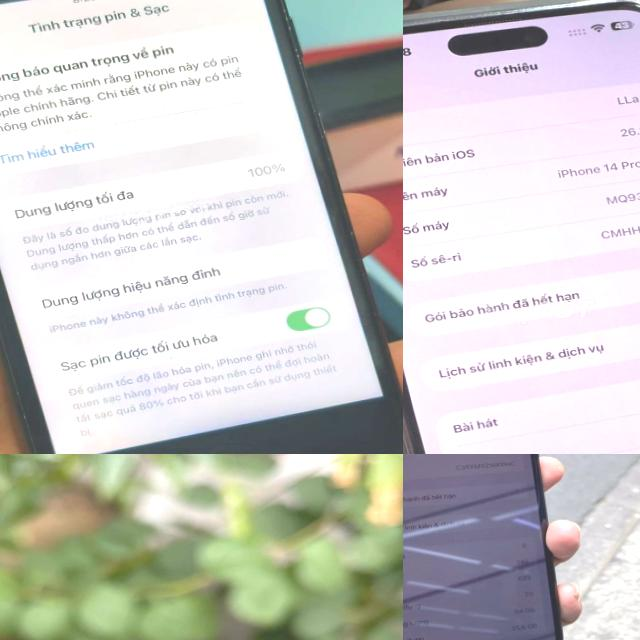gen_14: (403, 0, 640, 454)
gen_7_8: (0, 0, 403, 454)
gen_x_xs: (403, 454, 565, 640)
scratch: (273, 0, 312, 72)
screen_defect: (403, 507, 434, 537), (479, 560, 508, 586), (403, 585, 426, 616), (428, 583, 457, 606), (466, 492, 491, 518), (438, 499, 464, 522), (458, 573, 480, 599), (493, 486, 516, 510), (508, 554, 532, 577), (516, 481, 542, 500), (532, 550, 552, 570), (528, 632, 557, 640)
